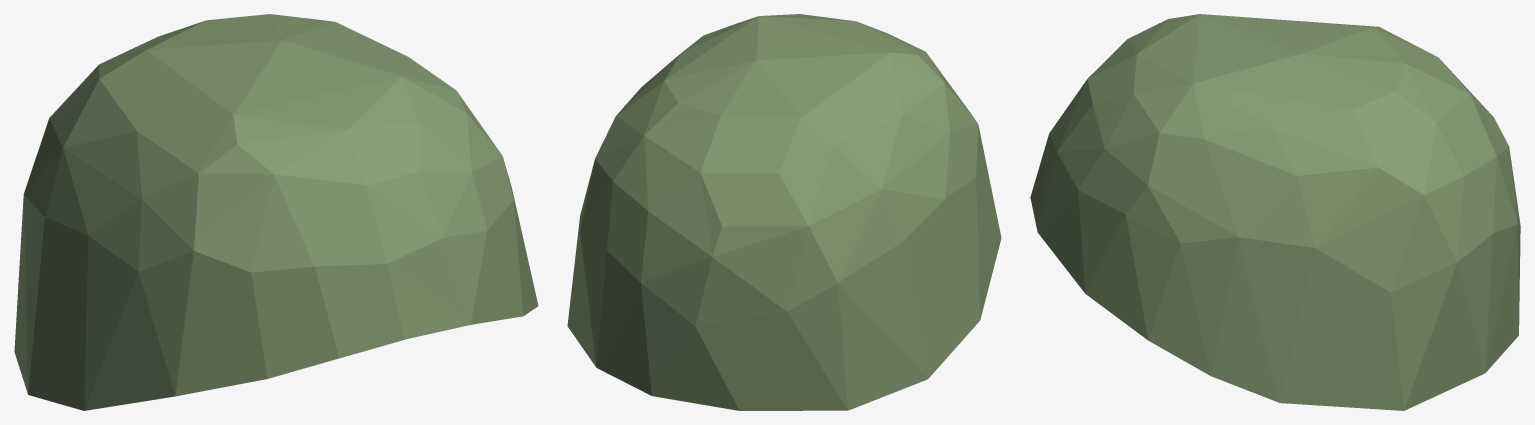
File: militar_cap.fbx
3 renders of one model, left to right at view 1: azimuth 30°, elevation 25°; view 2: azimuth 150°, elevation 25°; view 3: azimuth 270°, elevation 25°, orthographic. The views are drawn at different scales.
Visible parts, largest first — view 1: Cube.001; view 2: Cube.001; view 3: Cube.001.
Boxes of the visible parts, x1,y1,x2,y2 form: Cube.001: [14, 14, 538, 410]; Cube.001: [567, 14, 1001, 410]; Cube.001: [1030, 14, 1520, 410].
Bounding box in the file's own units: 35 × 25.02 × 39.15.
